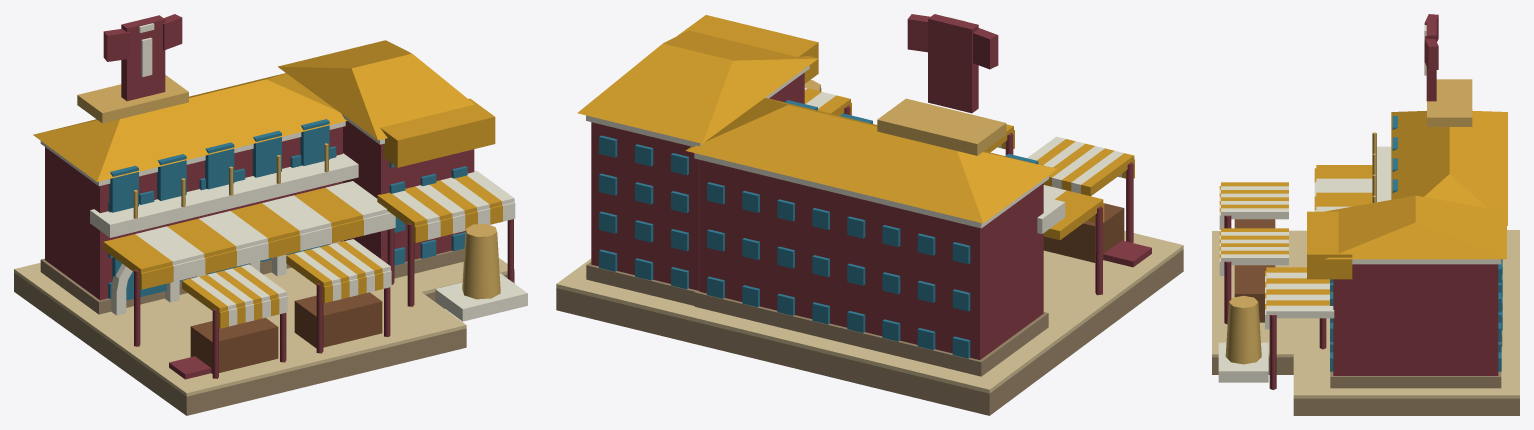
The model's file is club-shop-lv3.glb.
The picture shows the model from 3 angles, left to right: view 1: azimuth 30°, elevation 25°; view 2: azimuth 150°, elevation 25°; view 3: azimuth 270°, elevation 25°; orthographic projection. The views are drawn at different scales.
Parts seen in each view (by area): view 1: foundation_sand, market_row_roof_ochre, awnings_ochre, awnings_white, retail_corner_roof_ochre, market_row_burgundy, foundation_stoneDark, market_stalls_wood, shop_balcony_white, upper_shop_windows_glass, retail_corner_burgundy, corner_gate_ochre (+16 smaller); view 2: market_row_burgundy, market_row_roof_ochre, foundation_sand, foundation_stoneDark, retail_corner_roof_ochre, retail_corner_burgundy, market_row_windows_glass, jersey_sign_burgundy, market_row_stoneDark, awnings_ochre, sign_plinth_gold, retail_corner_windows_glass (+9 smaller); view 3: retail_corner_burgundy, foundation_sand, market_row_roof_ochre, retail_corner_roof_ochre, awnings_white, awnings_ochre, foundation_stoneDark, corner_gate_ochre, retail_corner_stoneDark, club_trophy_gold, sign_plinth_gold, market_stalls_wood (+9 smaller).
Boxes of the visible parts, x1,y1,x2,y2 form: foundation_sand: [14, 258, 514, 396]; market_row_roof_ochre: [33, 73, 346, 181]; awnings_ochre: [103, 175, 501, 315]; awnings_white: [135, 171, 514, 309]; retail_corner_roof_ochre: [278, 40, 474, 140]; market_row_burgundy: [45, 127, 342, 300]; foundation_stoneDark: [14, 272, 514, 415]; market_stalls_wood: [190, 292, 382, 373]; shop_balcony_white: [90, 153, 358, 237]; upper_shop_windows_glass: [109, 119, 329, 212]; retail_corner_burgundy: [343, 121, 474, 263]; corner_gate_ochre: [380, 98, 495, 167]; market_row_burgundy: [699, 159, 1043, 359]; market_row_roof_ochre: [685, 98, 1057, 223]; foundation_sand: [556, 230, 1183, 393]; foundation_stoneDark: [556, 249, 1183, 415]; retail_corner_roof_ochre: [577, 30, 818, 143]; retail_corner_burgundy: [591, 72, 804, 290]; market_row_windows_glass: [707, 182, 970, 358]; jersey_sign_burgundy: [907, 14, 998, 113]; market_row_stoneDark: [694, 292, 1048, 376]; awnings_ochre: [804, 88, 1134, 240]; sign_plinth_gold: [877, 98, 1006, 155]; retail_corner_windows_glass: [599, 135, 688, 289]; retail_corner_burgundy: [1333, 264, 1498, 375]; foundation_sand: [1212, 230, 1519, 398]; market_row_roof_ochre: [1391, 110, 1507, 225]; retail_corner_roof_ochre: [1325, 195, 1506, 259]; awnings_white: [1221, 178, 1372, 318]; awnings_ochre: [1221, 165, 1372, 305]; foundation_stoneDark: [1212, 357, 1519, 415]; corner_gate_ochre: [1307, 211, 1352, 279]; retail_corner_stoneDark: [1330, 371, 1501, 388]; club_trophy_gold: [1225, 295, 1261, 364]; sign_plinth_gold: [1427, 79, 1472, 126]; market_stalls_wood: [1234, 219, 1275, 322].
Bounding box in the file's own units: 1 × 0.7283 × 0.7861.
